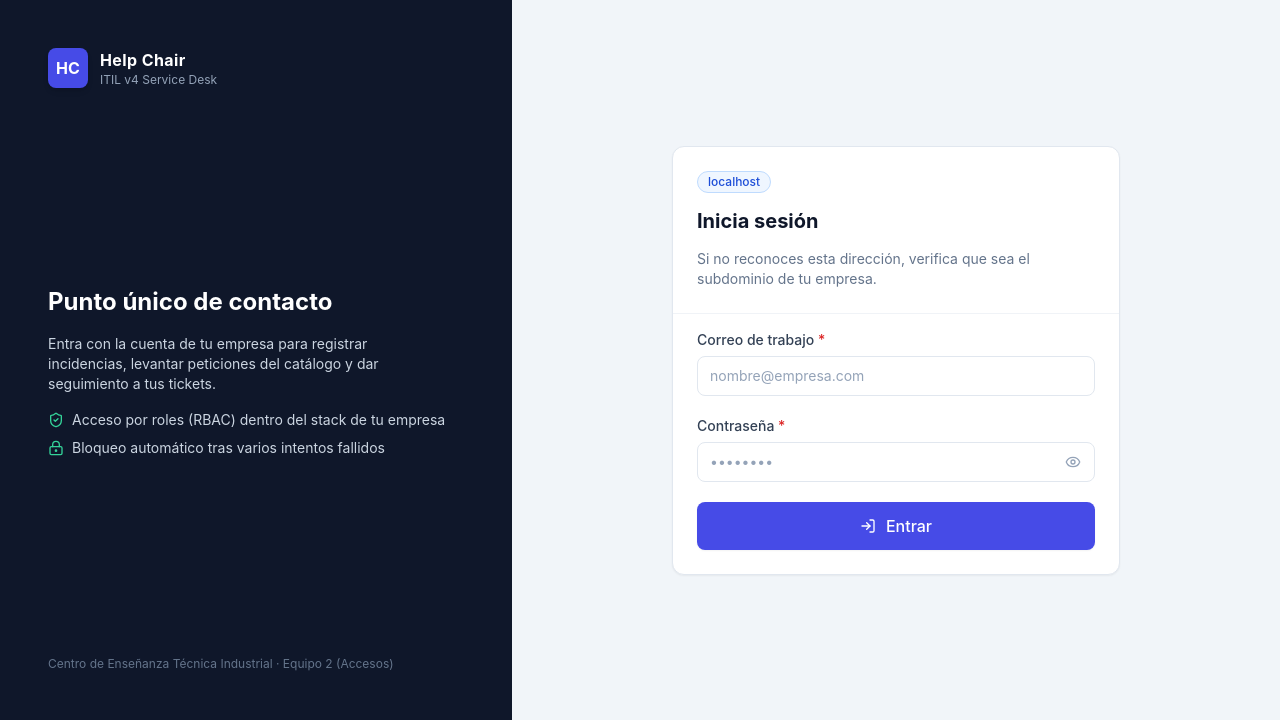
LoginPage › avisa cuando el correo o la contraseña no coinciden
Step 1. Type "admin@acme.com" into the field labelled "Correo de trabajo *" → (896, 376), box [697,356,1095,396]
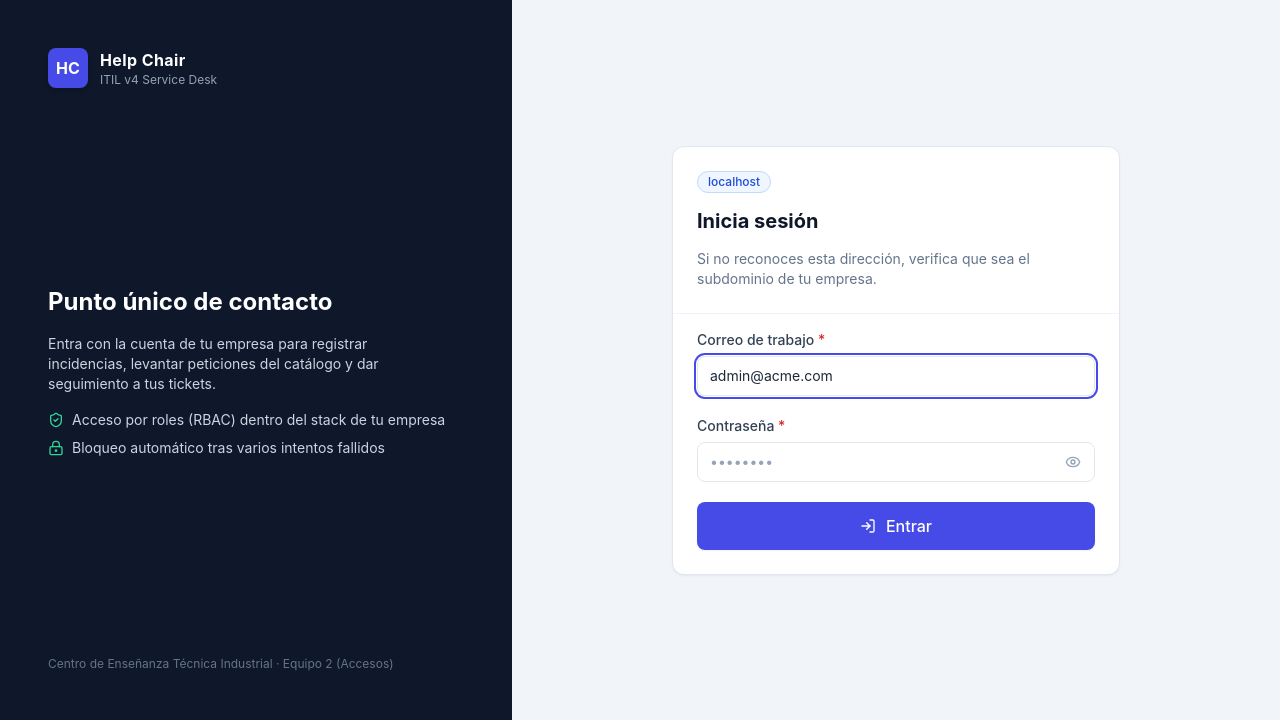
Step 2. Type "incorrecta-pero-larga" into the password field labelled "Contraseña *" → (896, 462), box [697,442,1095,482]
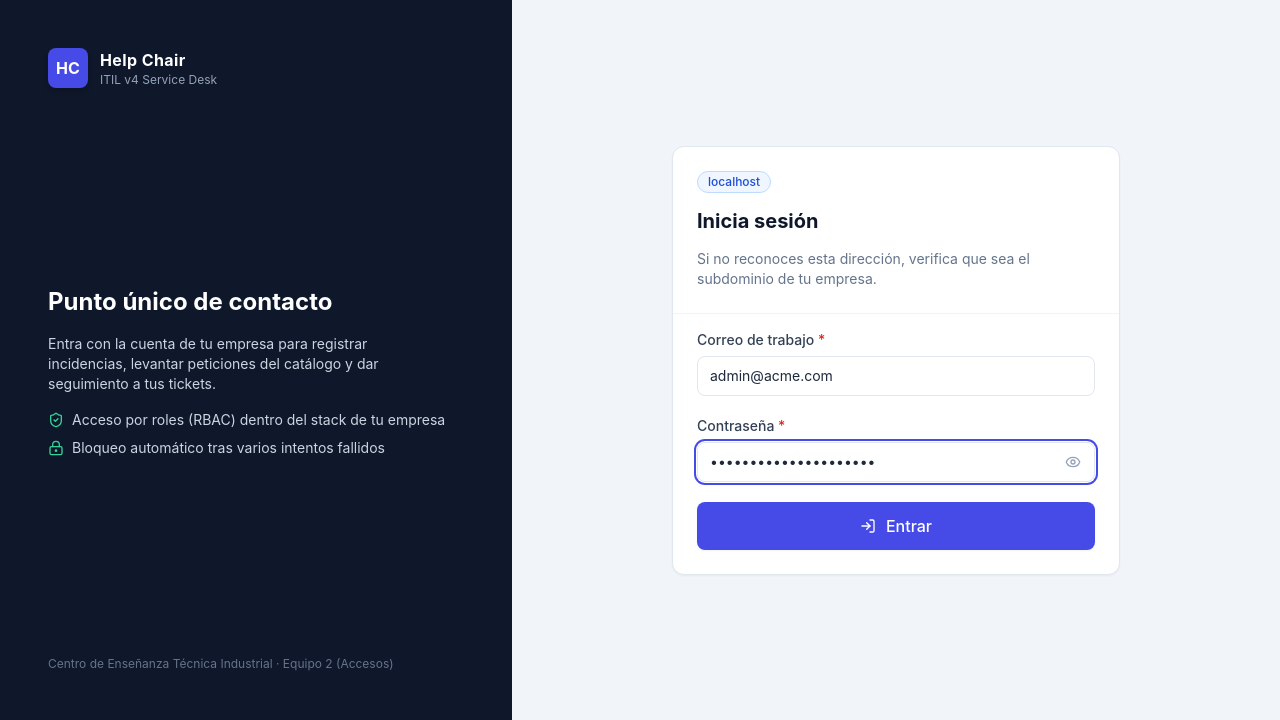
Step 3. Click the button "Entrar" → (896, 526), box [697,502,1095,550]
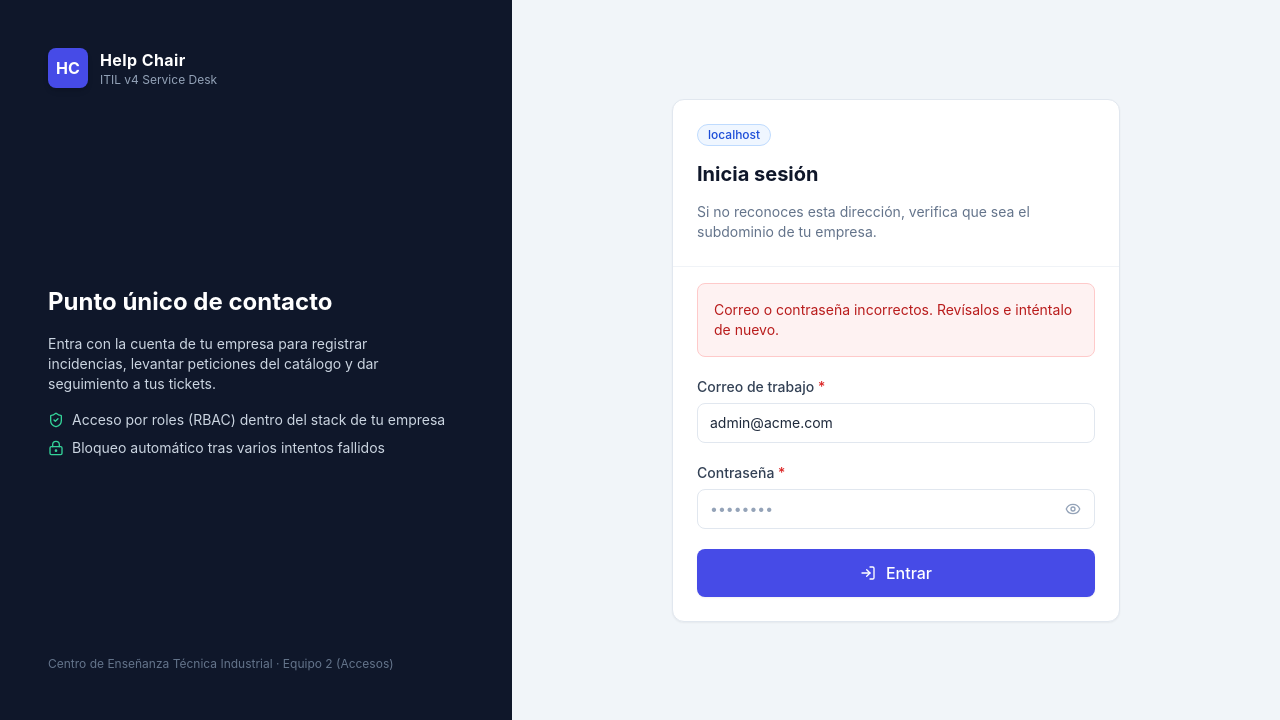
Check: the button "Entrar" is enabled, box [697,548,1095,596]
Check: the message shows "incorrectos", box [714,300,1072,338]
